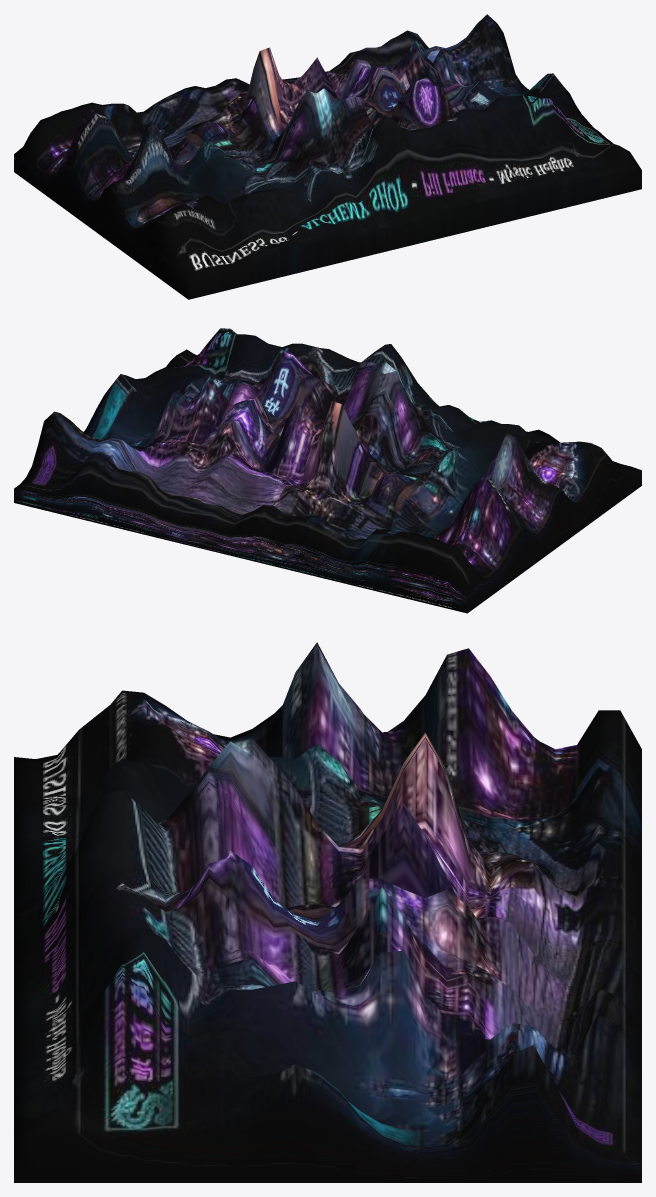
Rendered from BUSINESS_06_Alchemy_Shop.glb.
3 views of the same model, one above another, from view 1: azimuth 30°, elevation 25°; view 2: azimuth 150°, elevation 25°; view 3: azimuth 270°, elevation 25° (orthographic). The views are drawn at different scales.
Visible parts, largest first — view 1: BUSINESS_06_Alchemy_Shop; view 2: BUSINESS_06_Alchemy_Shop; view 3: BUSINESS_06_Alchemy_Shop.
Boxes of the visible parts, x1,y1,x2,y2 form: BUSINESS_06_Alchemy_Shop: (14,14,641,299); BUSINESS_06_Alchemy_Shop: (14,328,641,613); BUSINESS_06_Alchemy_Shop: (14,642,641,1182).
Size of the model in its own units: 2 by 0.51 by 1.33.
1 material, 1 textured.
